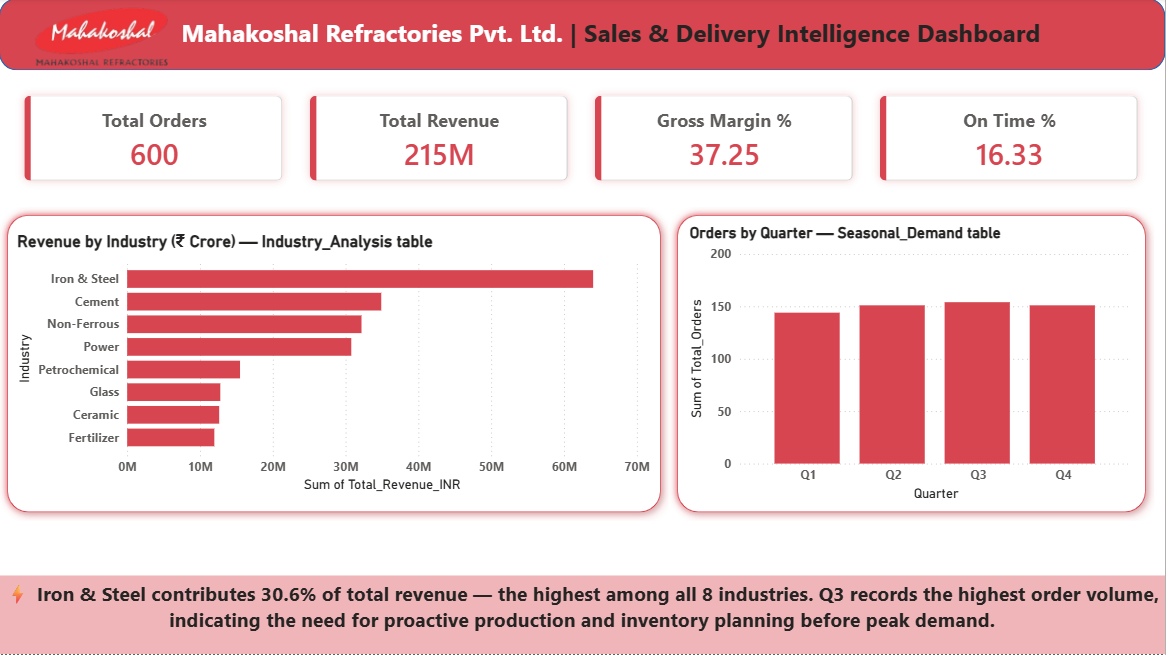

The dashboard page shown, as its layout file describes it:
{"tool":"powerbi","page":{"name":"Executive Overview","canvas":[1280,720],"ordinal":0},"visuals":[{"type":"shape","box":[0,0,1280.3,79.6],"z":0},{"type":"textbox","box":[166,15.1,1011.3,50.8],"z":1000},{"type":"image","box":[0,6.9,225,70],"z":2000},{"type":"cardVisual","fields":{"Data":["Raw_Data.Total Orders","Raw_Data.Total Revenue","Raw_Data.Gross Margin %","Raw_Data.On Time %"]},"box":[0,79.6,1280.3,149.6],"z":3000},{"type":"shape","box":[0,229.2,735.5,344.4],"z":4000},{"type":"clusteredBarChart","title":"Revenue by Industry (₹ Crore) — Industry_Analysis table","fields":{"Category":["Industry_Analysis.Industry"],"Y":["Sum(Industry_Analysis.Total_Revenue_INR)"]},"box":[15.1,255.2,705.3,292.3],"z":5000},{"type":"shape","box":[735.5,229.2,532.4,344.4],"z":6000},{"type":"clusteredColumnChart","title":"Orders by Quarter — Seasonal_Demand table","fields":{"Category":["Seasonal_Demand.Quarter"],"Y":["Sum(Seasonal_Demand.Total_Orders)"]},"box":[753.3,247,495.4,310.1],"z":7000},{"type":"textbox","box":[0,634,1280.3,86.4],"z":8000}]}

Visuals, with their boxes in screenshot pixels (x1, y1, x2, y2), scaled from the page's 1280x720 canvas onto the 1166x655 screenshot:
shape: 0:0:1165:72
textbox: 151:14:1072:60
image: 0:6:205:70
cardVisual - Raw_Data.Total Orders x Raw_Data.Total Revenue: 0:72:1165:209
shape: 0:209:670:522
"Revenue by Industry (₹ Crore) — Industry_Analysis table" clusteredBarChart: 14:232:656:498
shape: 670:209:1155:522
"Orders by Quarter — Seasonal_Demand table" clusteredColumnChart: 686:225:1137:507
textbox: 0:577:1165:654
